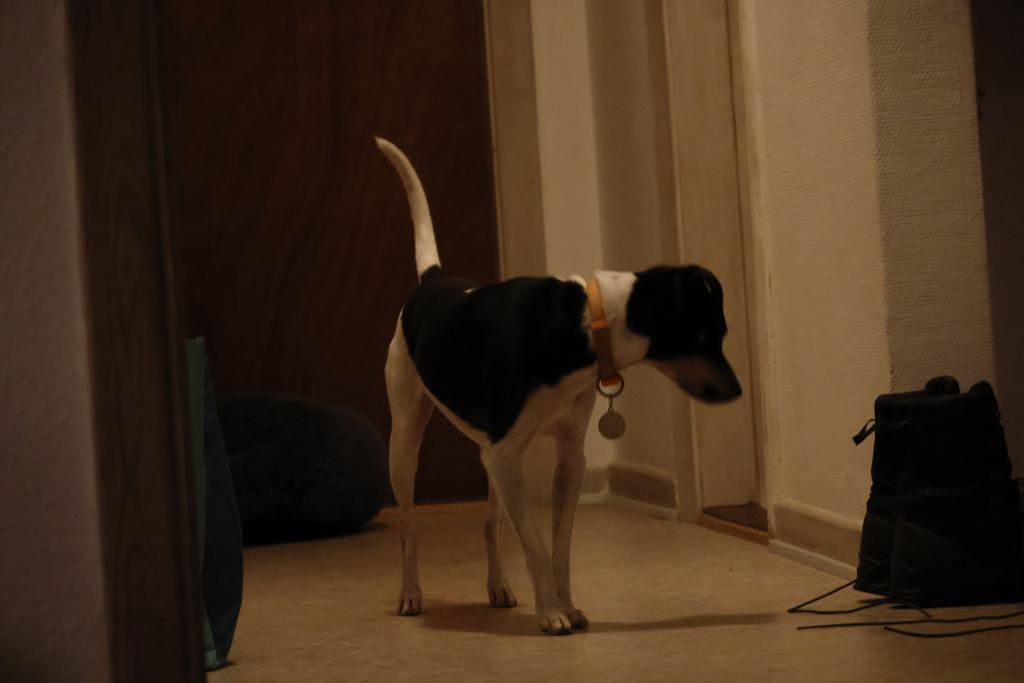Dog: (341, 117, 753, 646)
